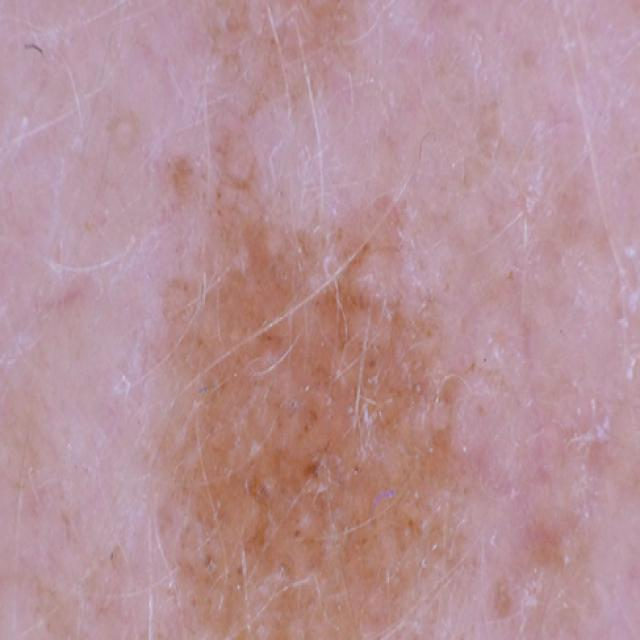Keratosis: (124, 0, 469, 640)
